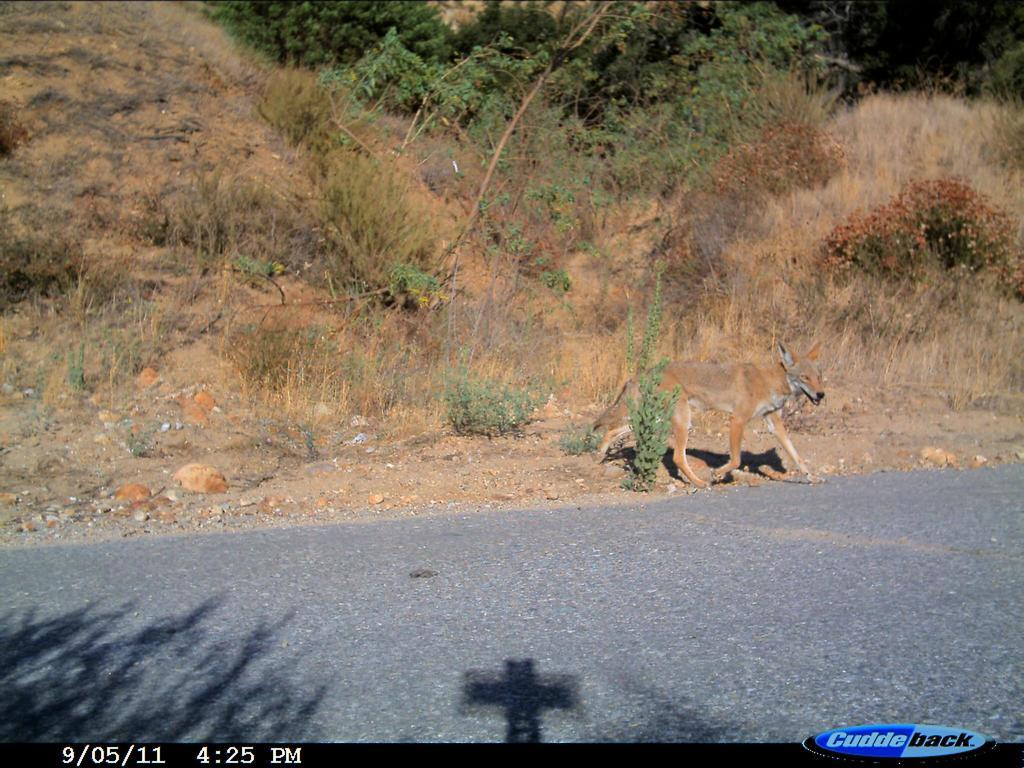coyote: (583, 337, 835, 500)
